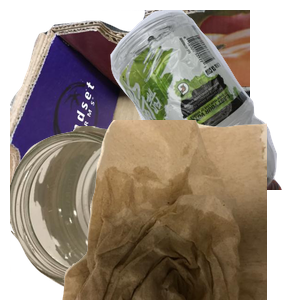cardboard: (10, 10, 250, 190)
glass: (10, 126, 216, 300)
plastic: (73, 10, 300, 190)
trash: (60, 120, 300, 300)
